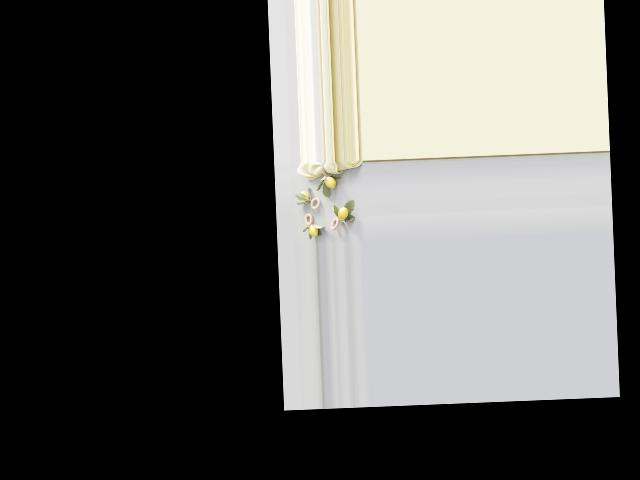lemon: (308, 222, 321, 240)
